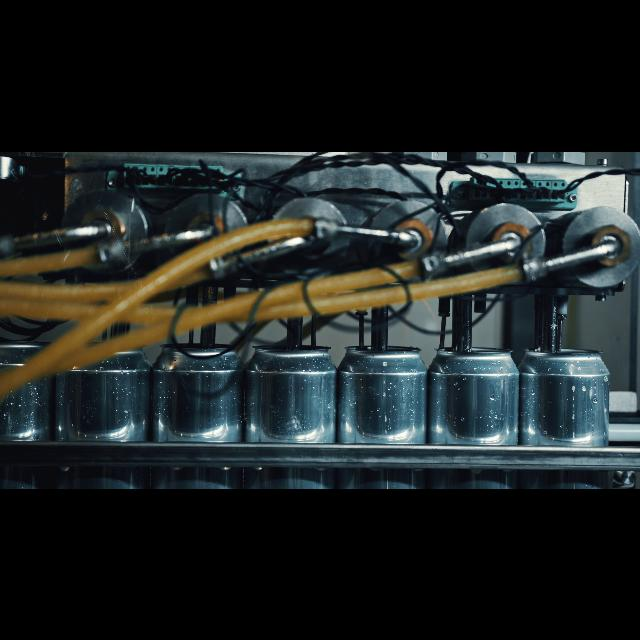empty: (58, 336, 152, 488), (251, 336, 335, 488), (344, 336, 428, 488), (528, 336, 610, 488), (161, 334, 241, 488), (436, 338, 518, 488), (3, 332, 52, 488)
